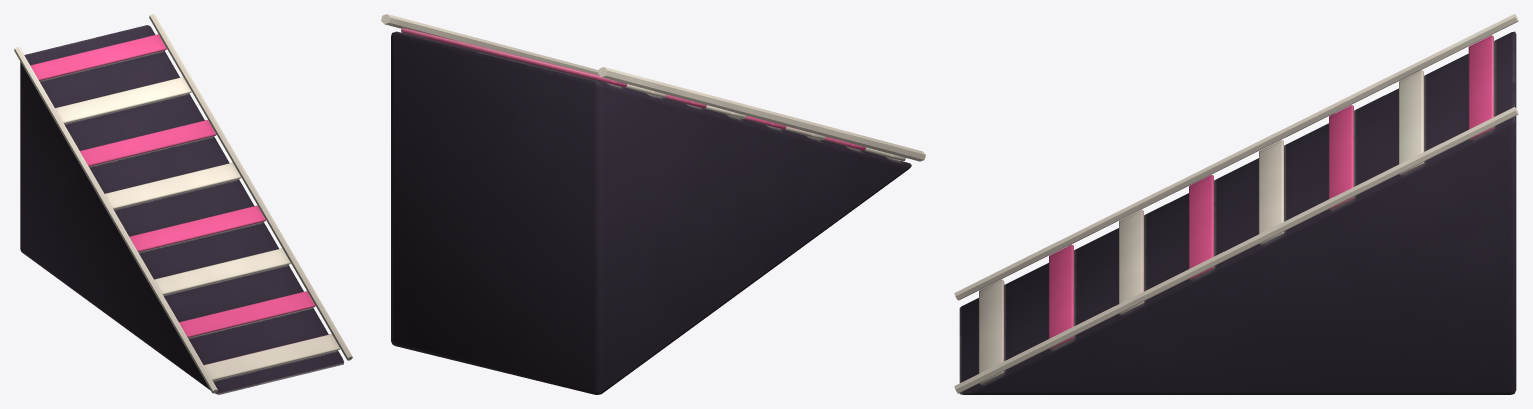
Rendered from rc_ramp.glb.
3 renders of one model, left to right at view 1: azimuth 30°, elevation 25°; view 2: azimuth 150°, elevation 25°; view 3: azimuth 270°, elevation 25°, orthographic. The views are drawn at different scales.
Visible parts, largest first — view 1: rc_ramp; view 2: rc_ramp; view 3: rc_ramp.
Boxes of the visible parts, box(x1,y1,x2,y2) form: rc_ramp: box(14, 14, 352, 394); rc_ramp: box(381, 14, 925, 394); rc_ramp: box(954, 14, 1518, 394).
Bounding box in the file's own units: 2.45 × 3.44 × 6.05.
3 materials, 3 textured.
